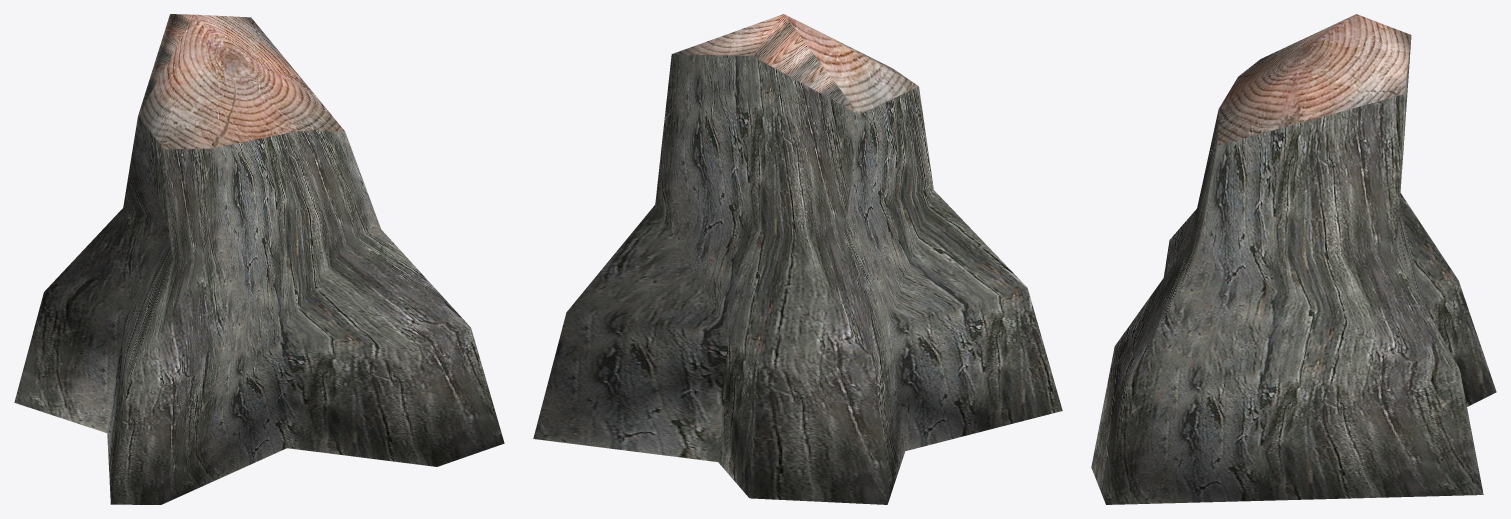
Rendered from decd_stump_med_l2.fbx.
3 renders of one model, left to right at view 1: azimuth 30°, elevation 25°; view 2: azimuth 150°, elevation 25°; view 3: azimuth 270°, elevation 25°, orthographic. The views are drawn at different scales.
Visible parts, largest first — view 1: mesh_node; view 2: mesh_node; view 3: mesh_node.
Boxes of the visible parts, x1,y1,x2,y2 form: mesh_node: (14,14,504,504); mesh_node: (533,14,1062,504); mesh_node: (1091,14,1496,504).
Bounding box in the file's own units: 2.88 × 2.96 × 2.75.
